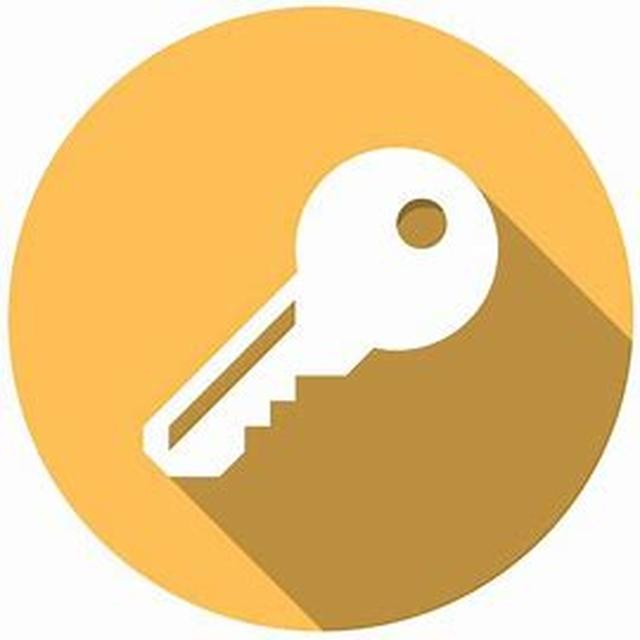key: (148, 161, 516, 501)
